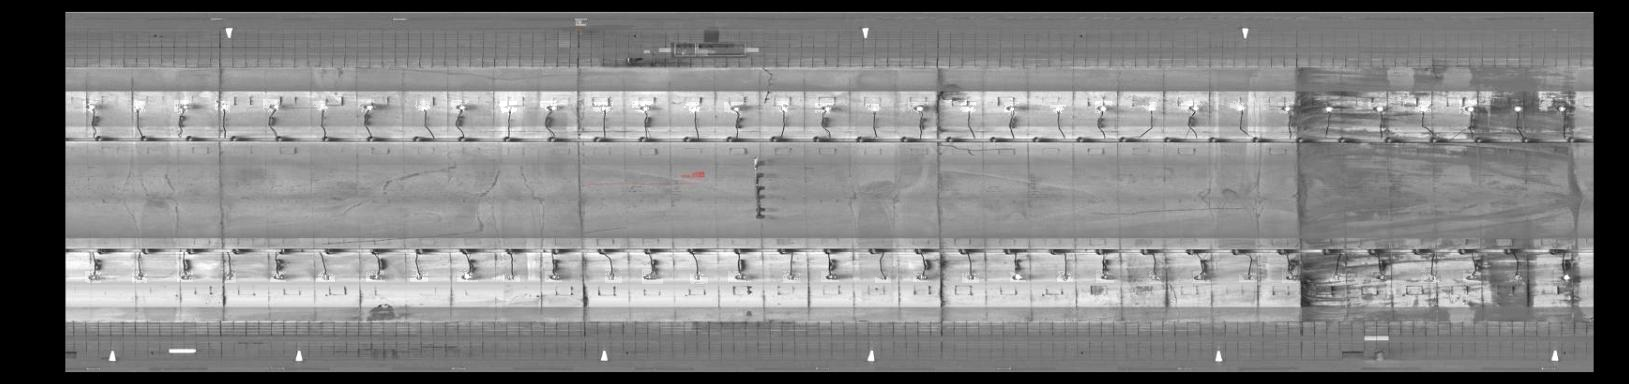light: (1459, 100, 1479, 116), (642, 269, 663, 284), (498, 101, 517, 116), (1181, 101, 1202, 115), (263, 99, 281, 115), (451, 100, 469, 115), (1414, 101, 1432, 116), (632, 101, 653, 113), (593, 102, 613, 115), (1368, 102, 1388, 115), (1282, 270, 1302, 283), (728, 271, 751, 282), (358, 99, 375, 114), (457, 270, 478, 282), (173, 100, 191, 114), (690, 270, 707, 284), (605, 269, 622, 283), (1554, 270, 1573, 283), (1505, 271, 1527, 282), (724, 102, 744, 114), (908, 102, 928, 114), (1371, 271, 1391, 283), (684, 102, 700, 116), (1095, 101, 1112, 115), (1510, 101, 1526, 115), (539, 101, 557, 114), (1096, 270, 1114, 283), (1463, 270, 1481, 282), (1193, 271, 1211, 283), (215, 101, 230, 116), (366, 271, 385, 282), (313, 101, 329, 114), (413, 101, 430, 114), (1278, 102, 1294, 115), (962, 270, 979, 283), (1230, 101, 1248, 113), (1421, 271, 1439, 283), (783, 271, 801, 283), (410, 270, 428, 282), (814, 103, 835, 113), (821, 271, 839, 282), (316, 271, 335, 282), (131, 101, 145, 115), (221, 269, 236, 283), (960, 101, 976, 114), (1554, 102, 1570, 115), (1147, 271, 1161, 284), (1142, 102, 1157, 114), (85, 271, 101, 283), (1329, 272, 1345, 283), (1057, 271, 1073, 282), (545, 271, 562, 282), (177, 271, 193, 282), (1318, 104, 1336, 114), (503, 272, 520, 282), (83, 101, 98, 113), (132, 271, 146, 283), (270, 271, 286, 282), (1239, 273, 1258, 282), (1010, 272, 1026, 282), (913, 271, 928, 282), (1004, 102, 1019, 112), (1050, 105, 1066, 115), (875, 274, 891, 283), (866, 104, 879, 115), (777, 101, 787, 114)
